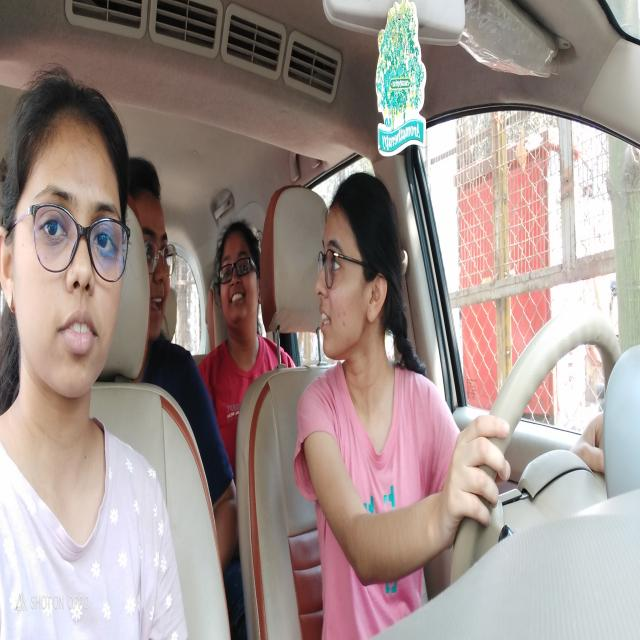LeftRight: (312, 163, 406, 362)
person: (1, 68, 135, 407), (130, 150, 176, 342), (213, 216, 263, 341)
talking: (319, 302, 339, 342)
